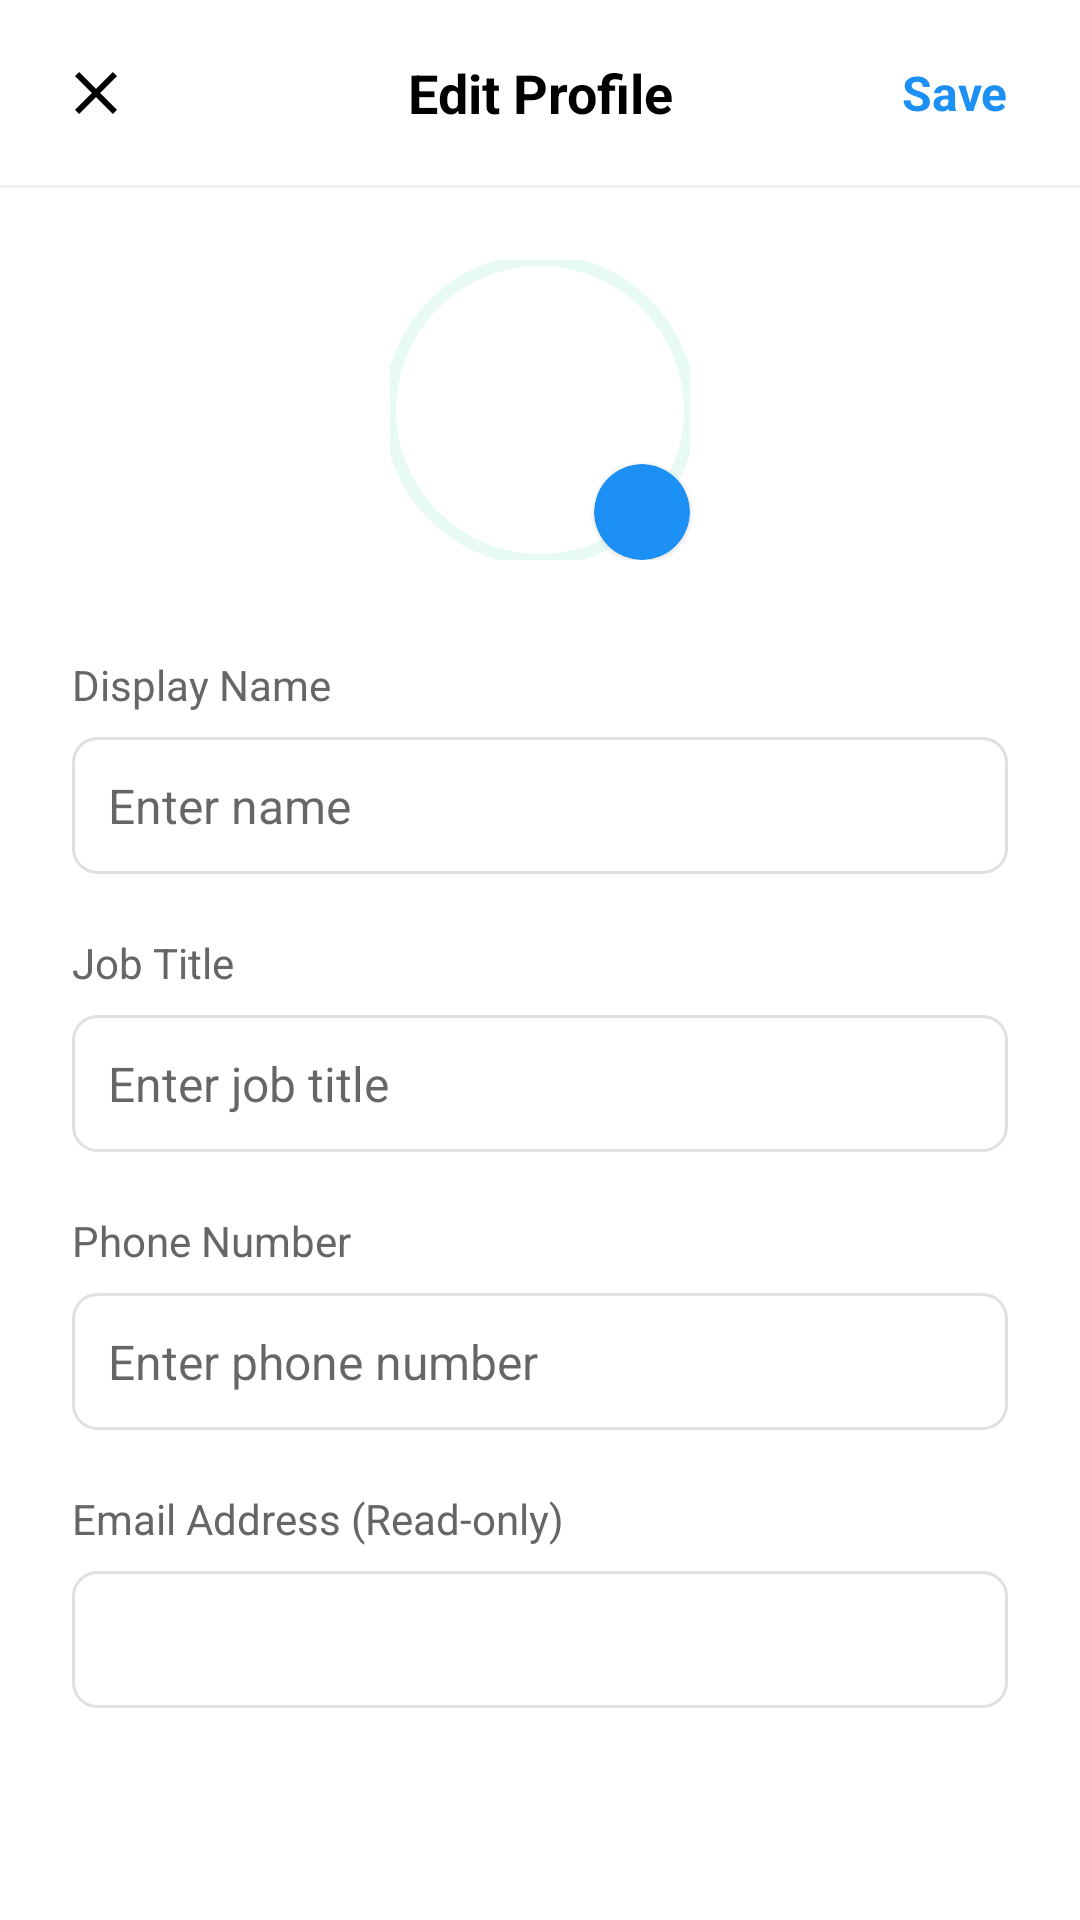

Icon click points for this 1080*1920 phone screenshot, format point (x, y):
close: point (96, 93)
